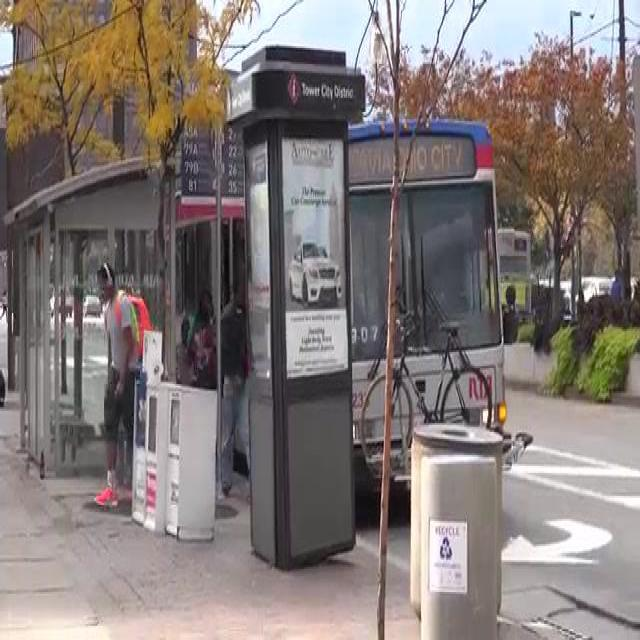motorcycle: (347, 112, 510, 436), (494, 230, 531, 326)
